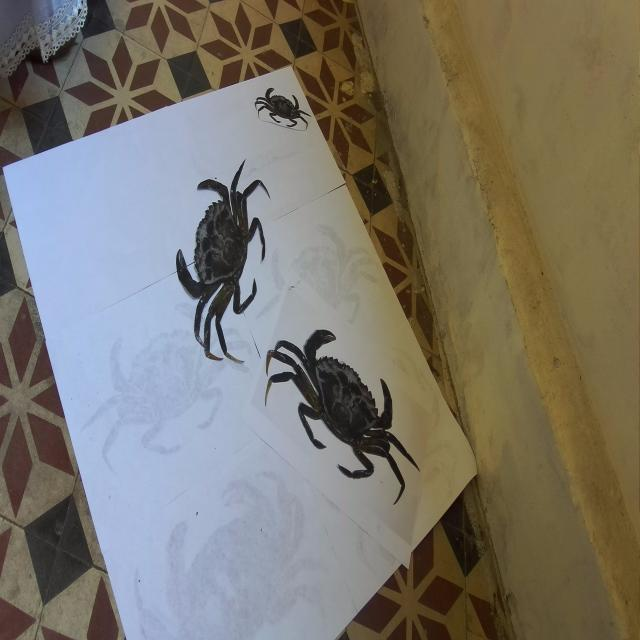European_Green_Crab: (255, 291, 434, 528), (164, 131, 281, 374), (253, 83, 313, 133)
